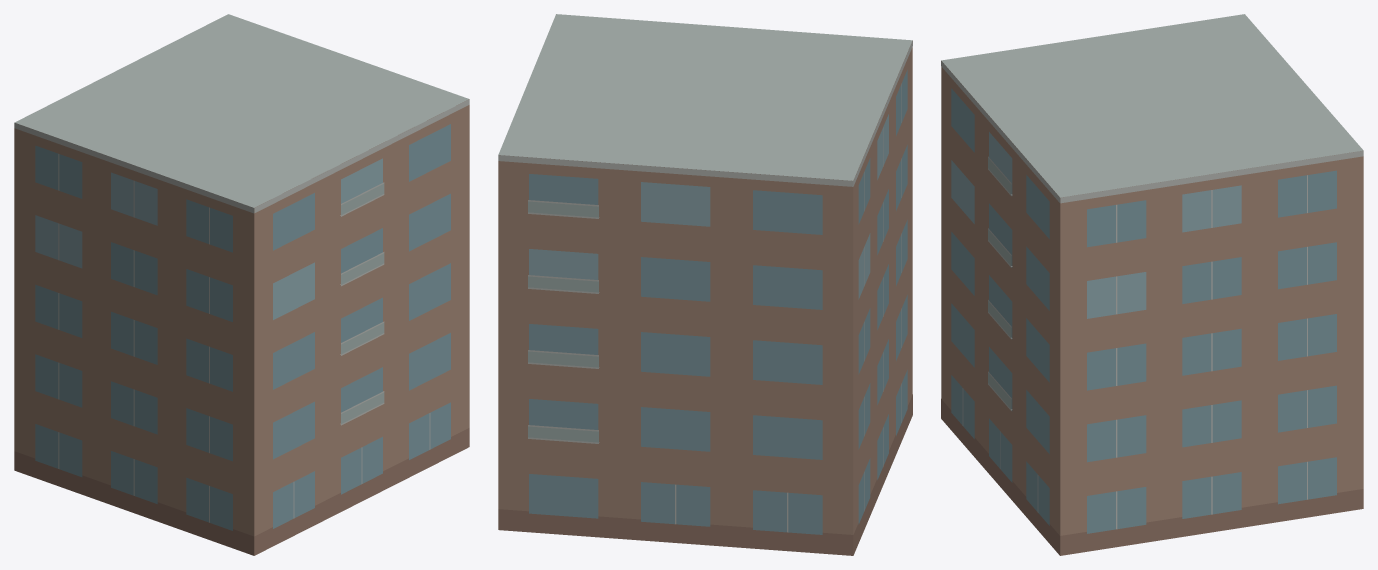
Rendered from survey-upis-32865641.glb.
The picture shows the model from 3 angles, left to right: view 1: azimuth 30°, elevation 25°; view 2: azimuth 150°, elevation 25°; view 3: azimuth 270°, elevation 25°; orthographic projection. The views are drawn at different scales.
Visible parts, largest first — view 1: survey-upis-32865641.tmp; view 2: survey-upis-32865641.tmp; view 3: survey-upis-32865641.tmp.
Boxes of the visible parts, <box> form: survey-upis-32865641.tmp: <box>14,14,469,555</box>; survey-upis-32865641.tmp: <box>498,14,912,555</box>; survey-upis-32865641.tmp: <box>941,14,1363,555</box>.
Bounding box in the file's own units: 16.61 × 15.1 × 16.15.
